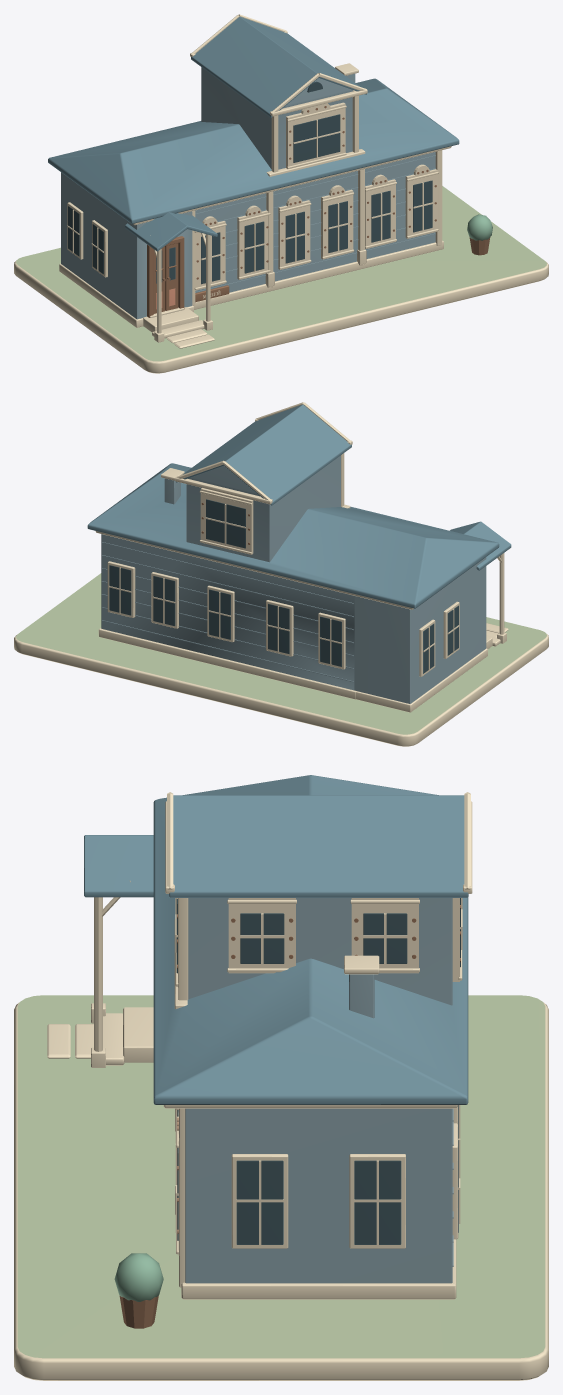
The model's file is organic-culture.glb.
3 views of the same model, one above another, from view 1: azimuth 30°, elevation 25°; view 2: azimuth 150°, elevation 25°; view 3: azimuth 270°, elevation 25° (orthographic). The views are drawn at different scales.
Parts seen in each view (by area): view 1: organic-culture · soft low-poly; view 2: organic-culture · soft low-poly; view 3: organic-culture · soft low-poly.
Part boxes in pixels (x1,y1,x2,y2): organic-culture · soft low-poly: (14, 14, 548, 373); organic-culture · soft low-poly: (14, 402, 548, 746); organic-culture · soft low-poly: (14, 775, 548, 1380).
Size of the model in its own units: 8.1 by 4.27 by 5.
